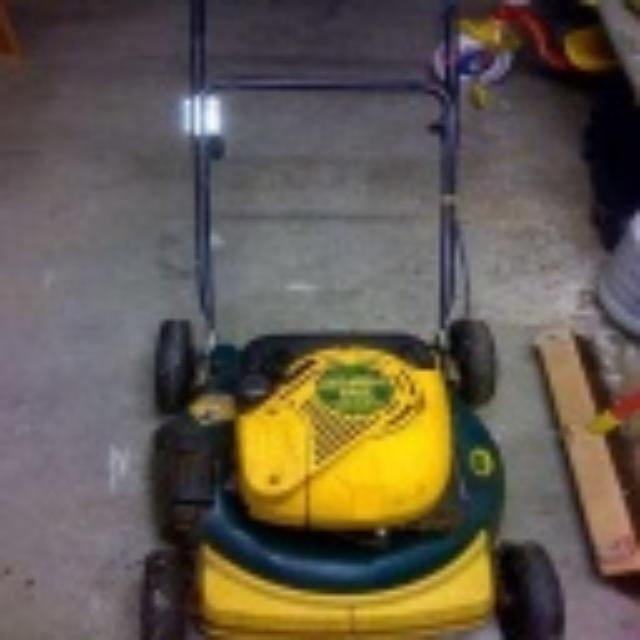Rotary-Mower: (135, 1, 565, 636)
